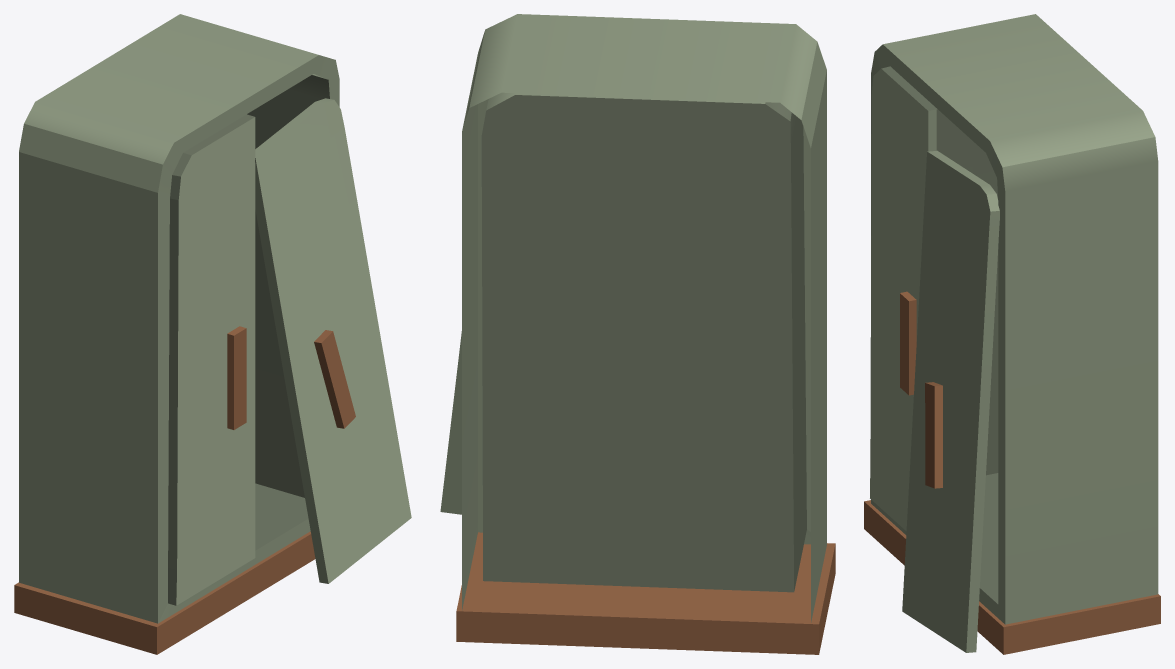
File: MSH_QuestObject_cabinet_03.fbx
3 views of the same model, side by side, from view 1: azimuth 30°, elevation 25°; view 2: azimuth 150°, elevation 25°; view 3: azimuth 270°, elevation 25° (orthographic). The views are drawn at different scales.
Visible parts, largest first — view 1: MSH_QuestObject_cabinet_03; view 2: MSH_QuestObject_cabinet_03; view 3: MSH_QuestObject_cabinet_03.
Part boxes in pixels (left/top/right/bottom): MSH_QuestObject_cabinet_03: left=14, top=14, right=411, bottom=654; MSH_QuestObject_cabinet_03: left=440, top=14, right=835, bottom=654; MSH_QuestObject_cabinet_03: left=864, top=14, right=1160, bottom=654.
Bounding box in the file's own units: 2.43 × 3.14 × 1.7.
